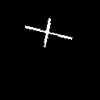single_crochet: (25, 18, 71, 46)
